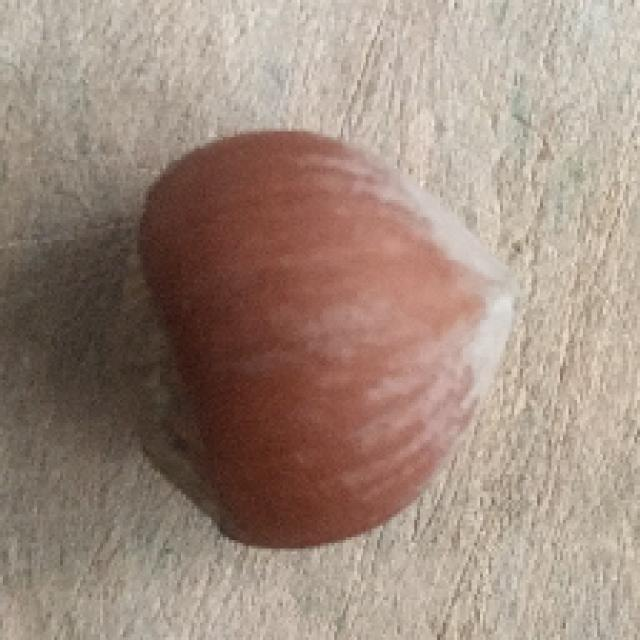qualityHazelnut: (104, 127, 527, 551)
